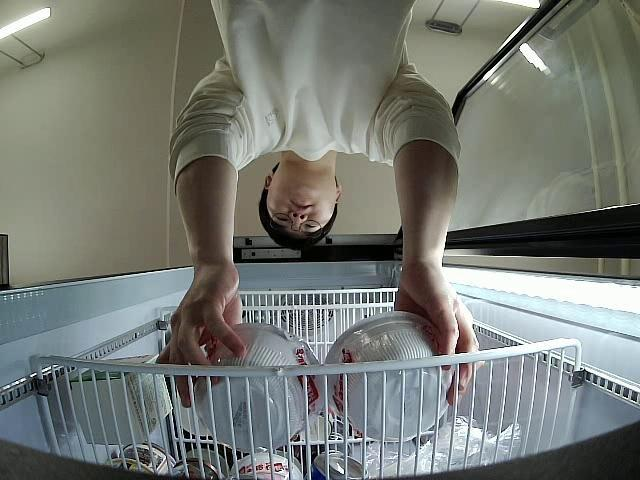09_yukGaeJang: (325, 311, 454, 444), (195, 324, 322, 450)
